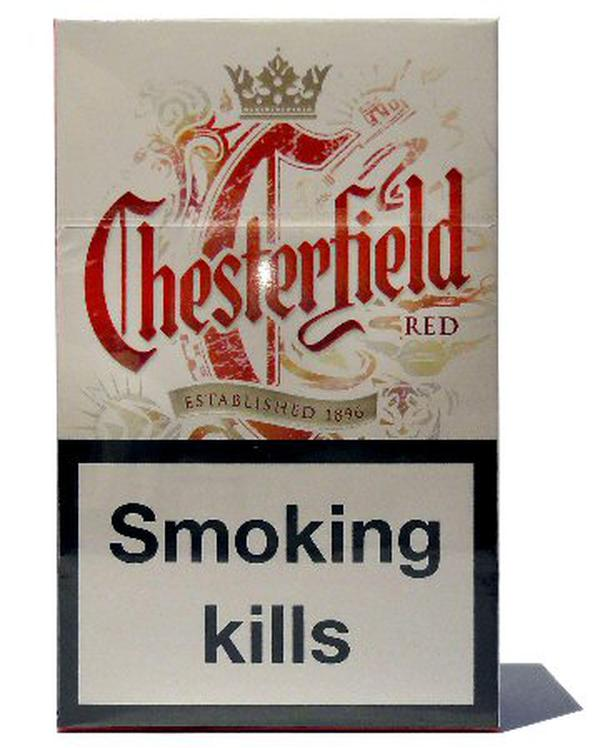chesterfield_red: (55, 22, 497, 732)
